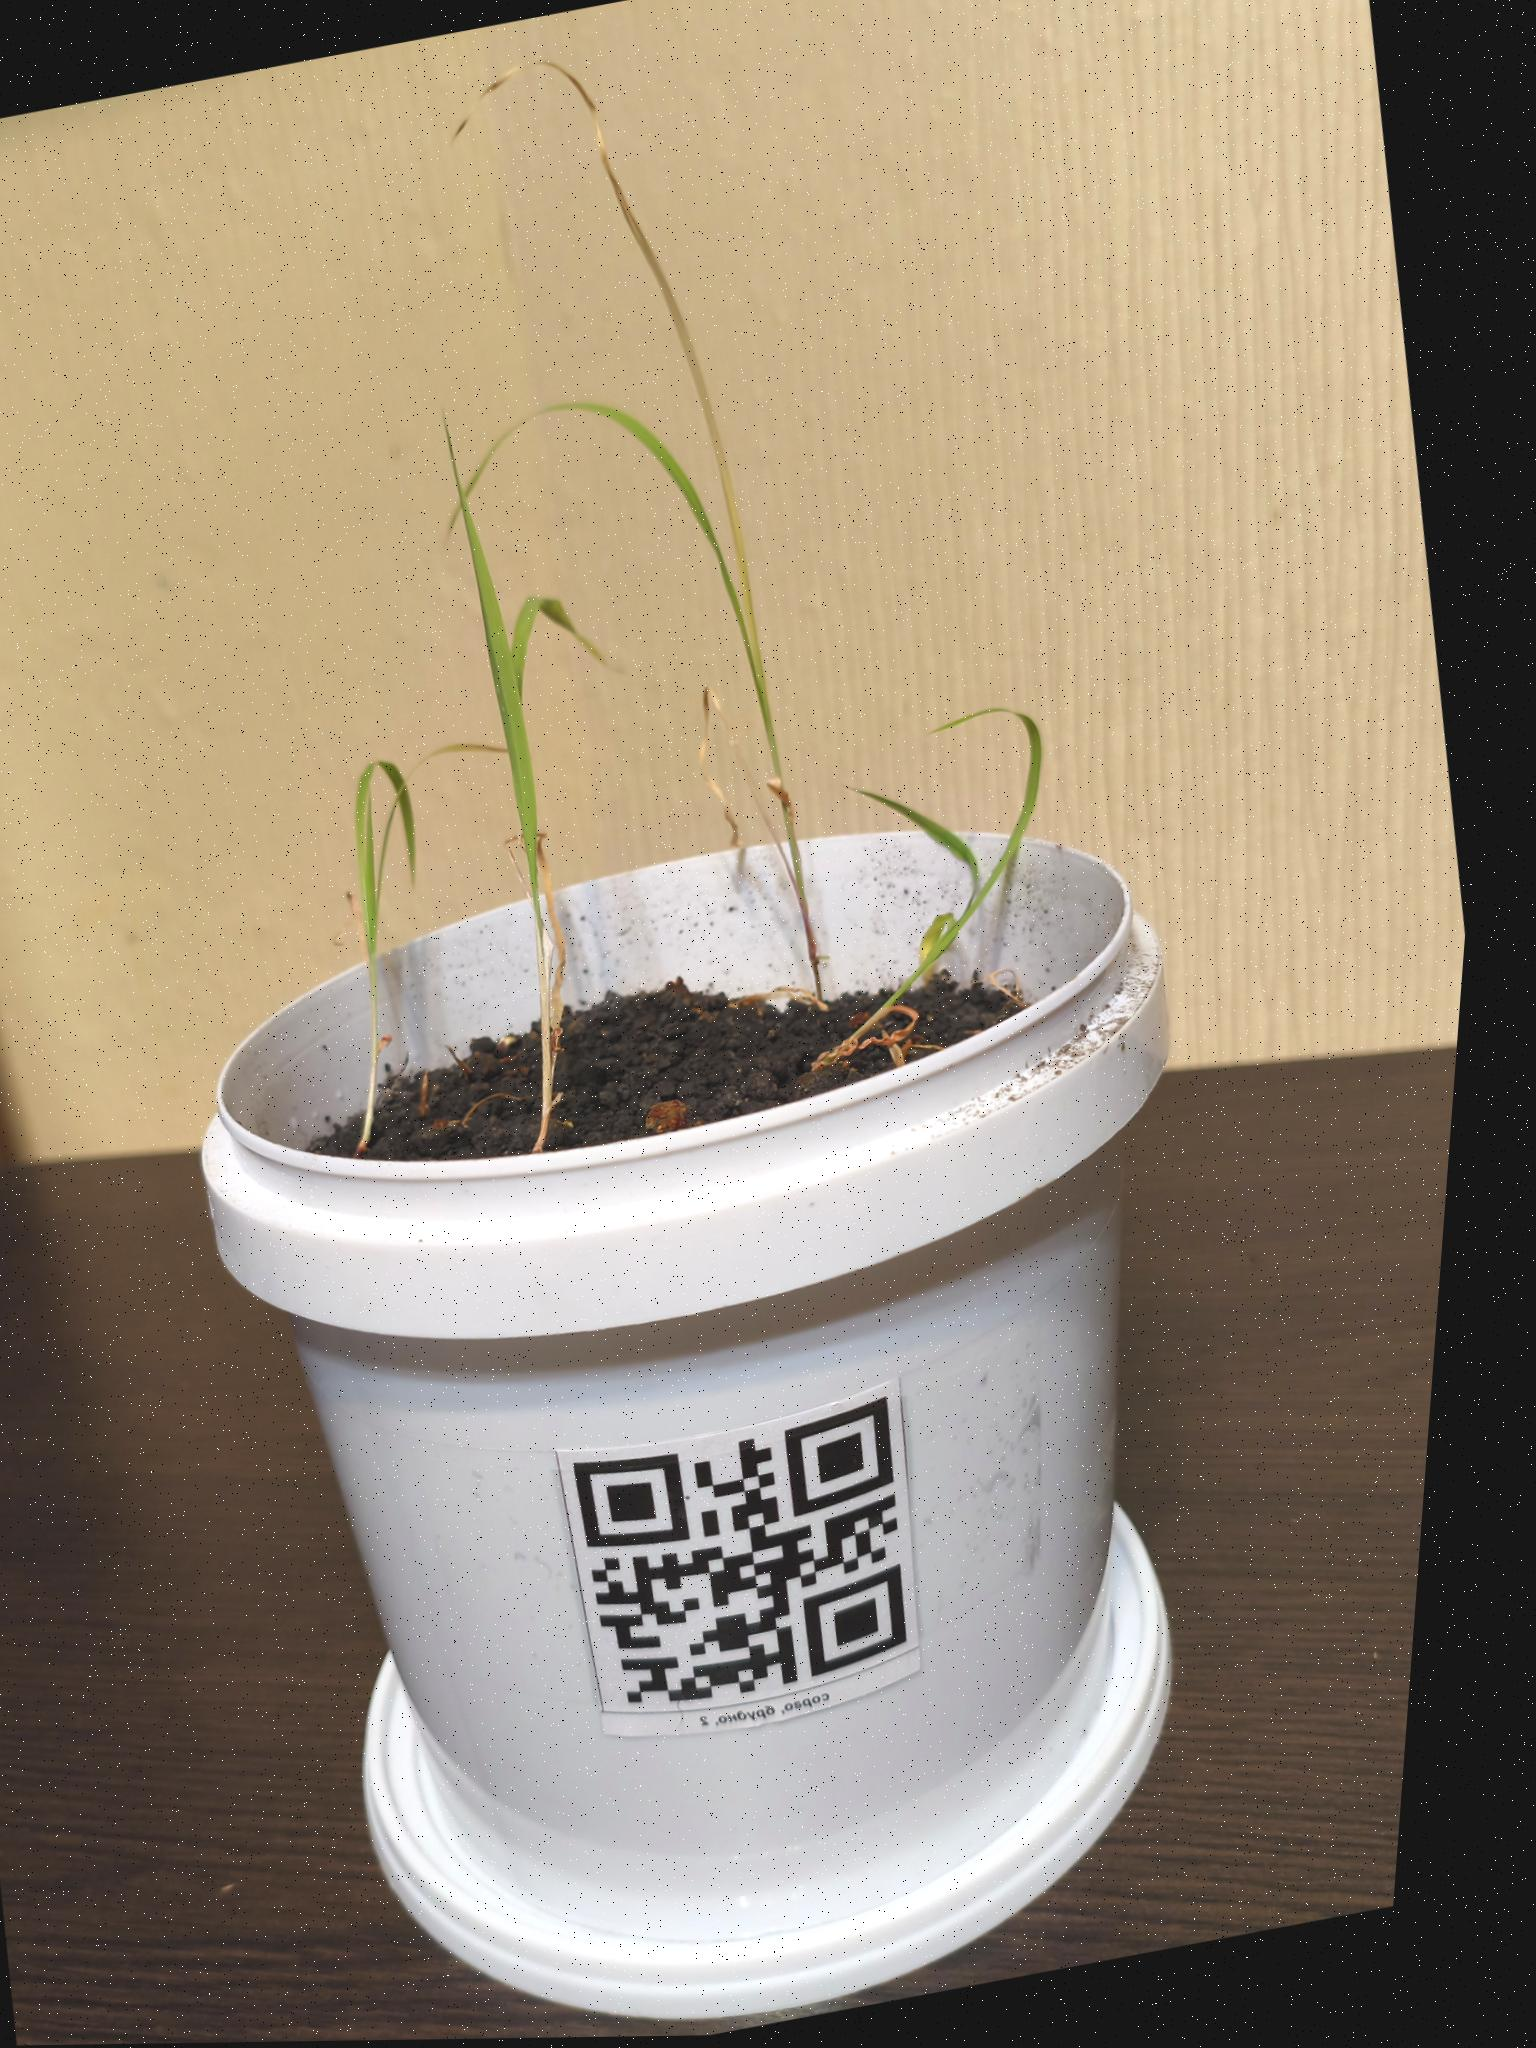container: (202, 830, 1171, 2017)
stem: (816, 951, 939, 1066), (781, 808, 824, 1000), (534, 926, 555, 1147), (358, 958, 378, 1147)
